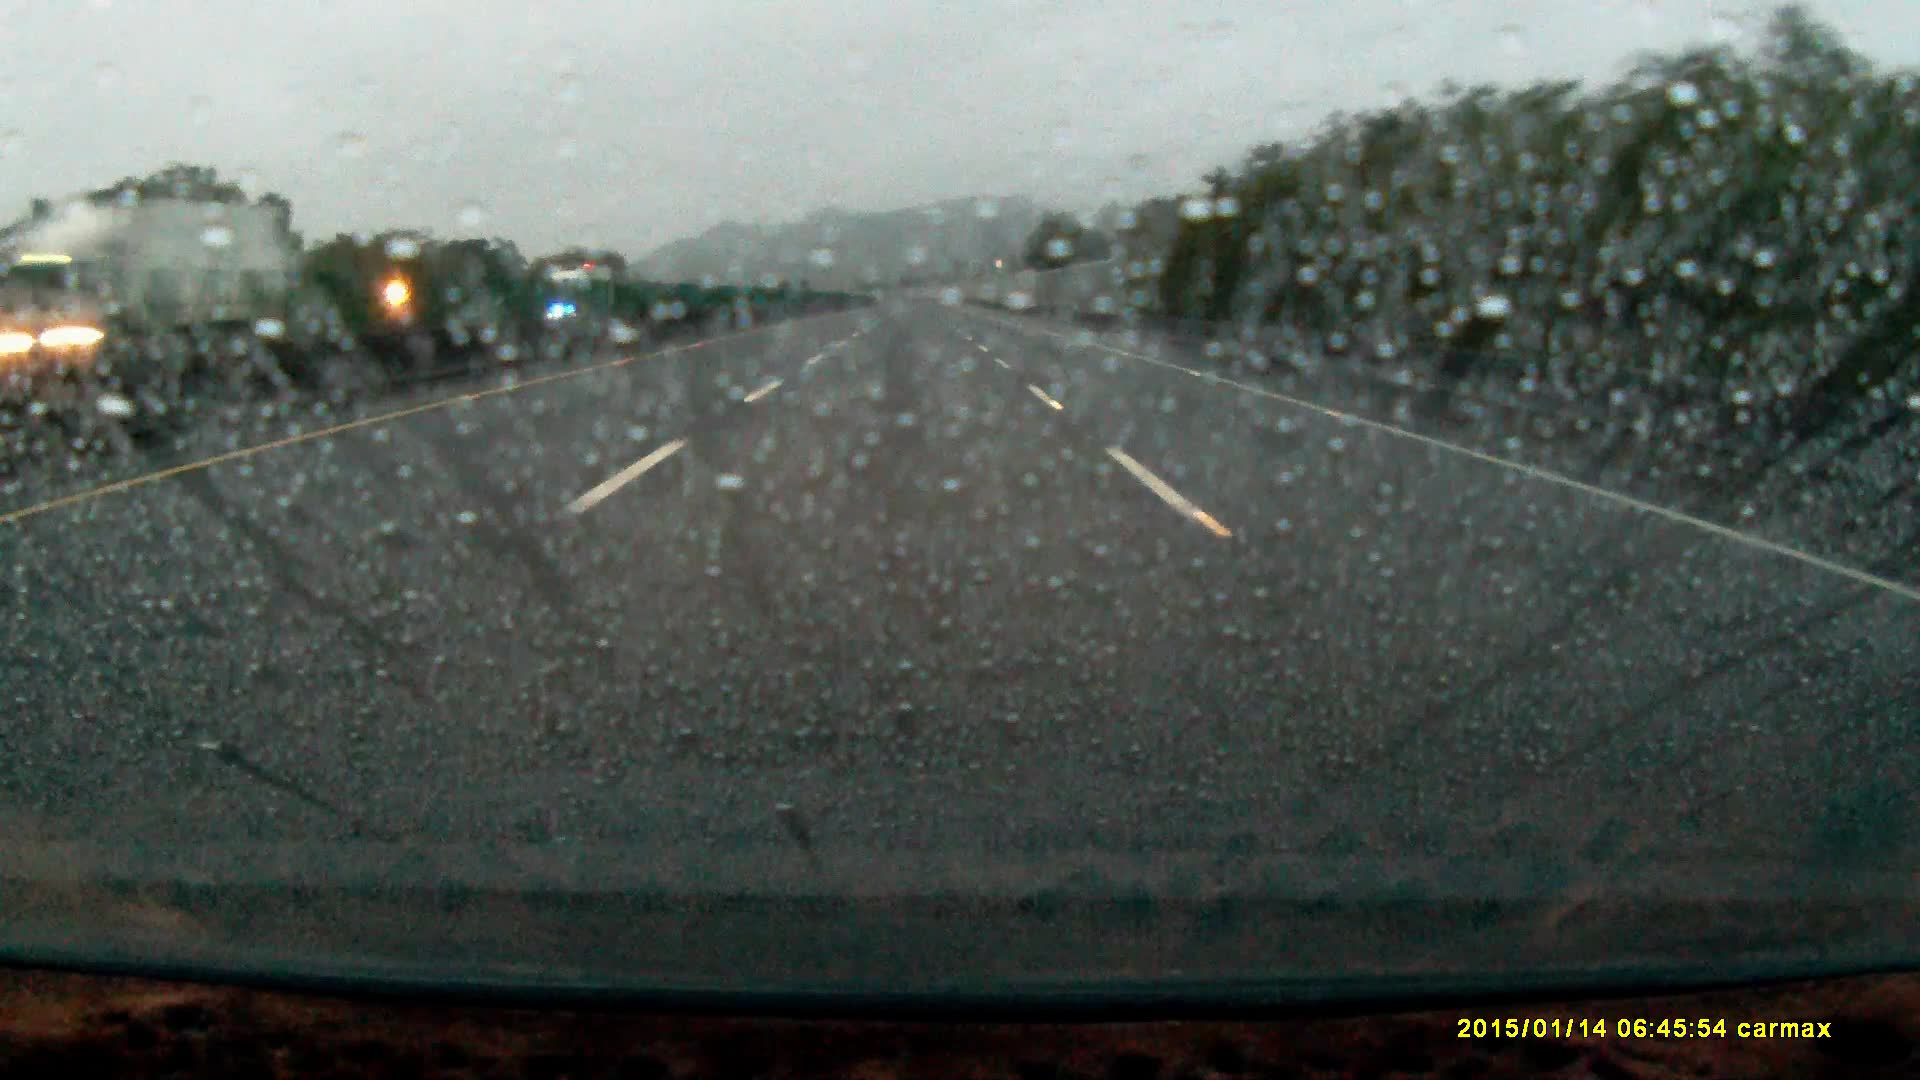vehicle: (11, 196, 260, 386), (545, 265, 618, 327)
